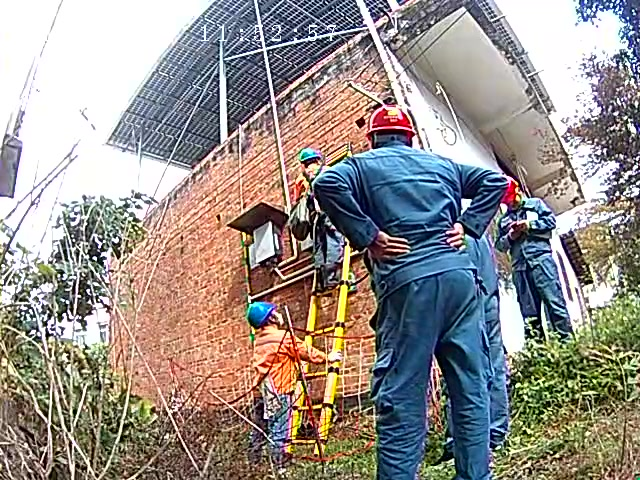halt: (369, 109, 419, 150), (250, 304, 282, 332), (301, 150, 327, 178)
